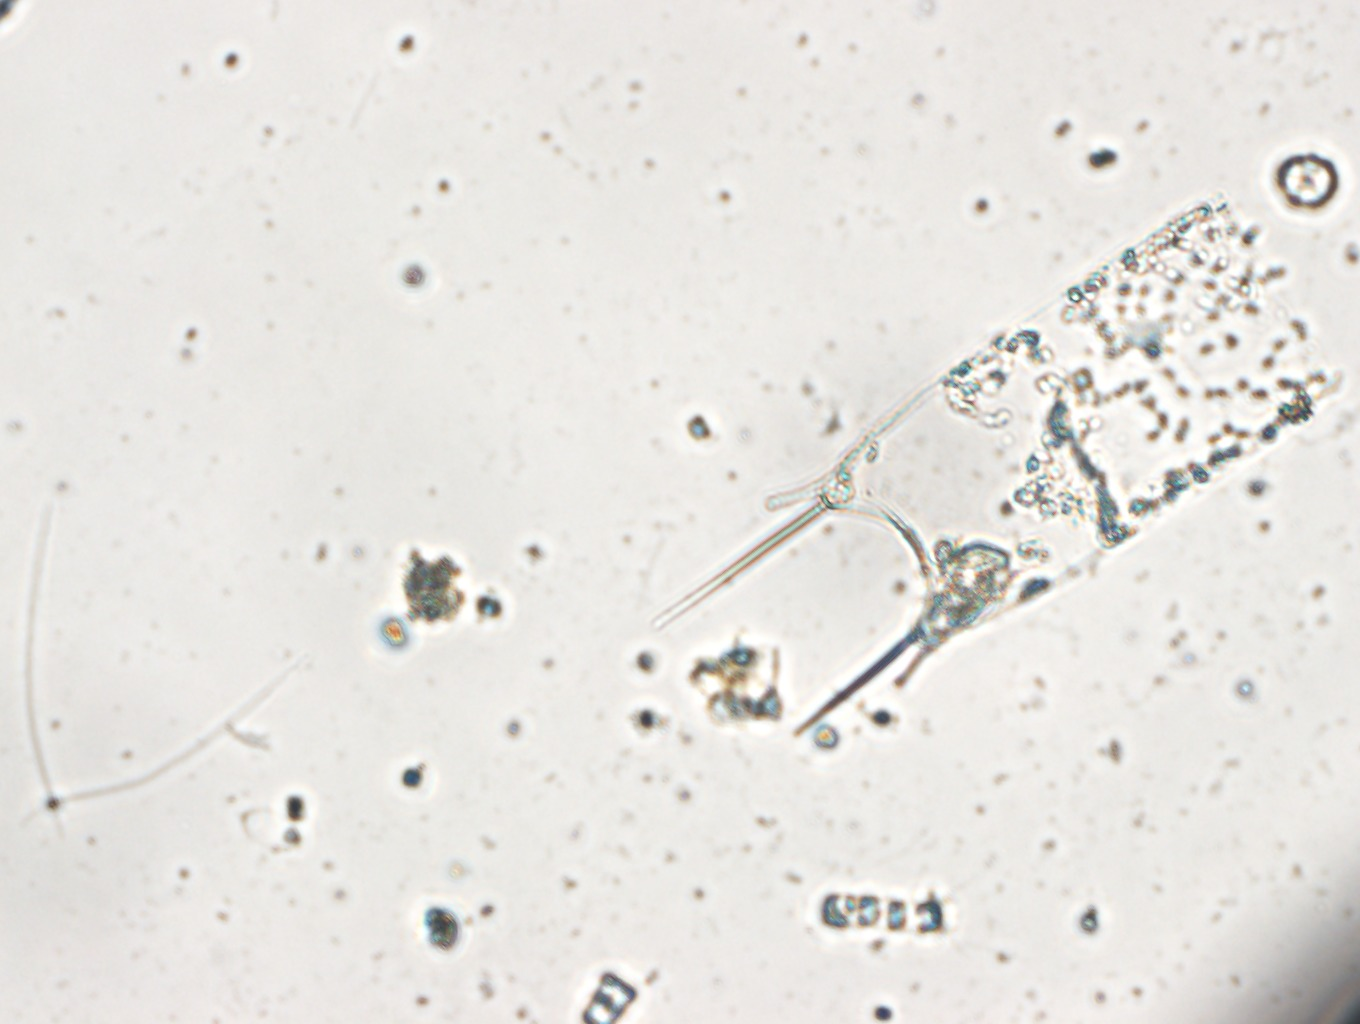biddulphia: (638, 191, 1338, 716)
